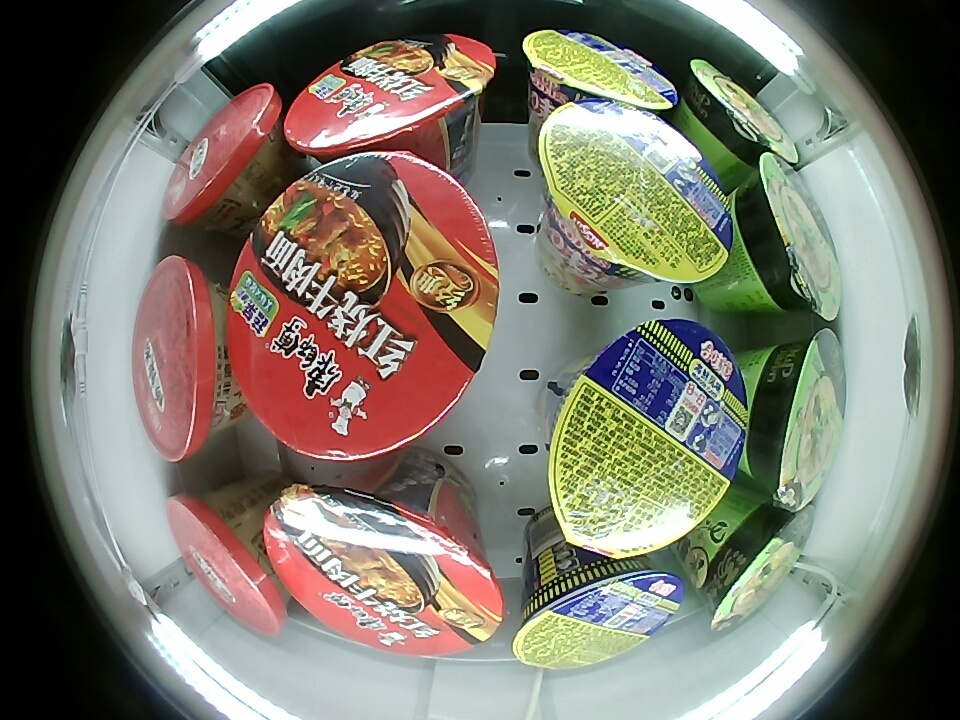heweidao: (549, 319, 747, 558), (540, 100, 733, 285), (515, 556, 685, 670), (523, 28, 678, 116)
hongshaoniurou: (223, 150, 500, 460), (263, 482, 504, 656), (283, 36, 497, 162)
suanlafen: (135, 254, 227, 463), (164, 82, 284, 227), (167, 490, 287, 633)
tangdaren: (734, 154, 847, 322), (744, 327, 848, 508), (702, 504, 816, 642), (681, 61, 799, 171)
